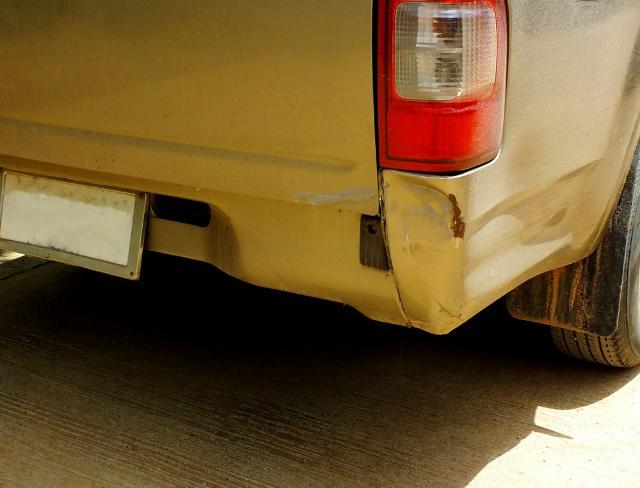dent: (383, 172, 587, 326)
scratch: (290, 184, 373, 208)
